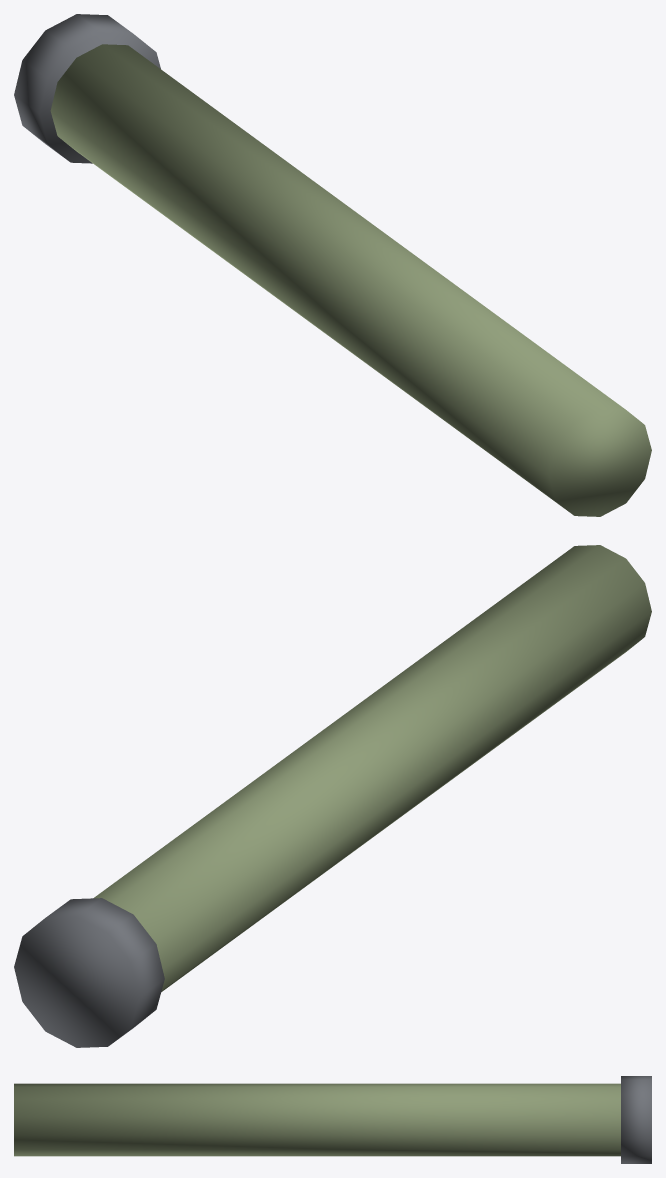
The model's file is mortar_tube.gltf.
3 views of the same model, one above another, from view 1: azimuth 30°, elevation 25°; view 2: azimuth 150°, elevation 25°; view 3: azimuth 270°, elevation 25° (orthographic). The views are drawn at different scales.
Visible parts, largest first — view 1: mortar_tube; view 2: mortar_tube; view 3: mortar_tube.
Part boxes in pixels (bbox=[...]): mortar_tube: bbox=[14, 14, 651, 516]; mortar_tube: bbox=[14, 545, 651, 1047]; mortar_tube: bbox=[14, 1076, 651, 1163].
Size of the model in its own units: 0.17 by 0.17 by 1.23.
